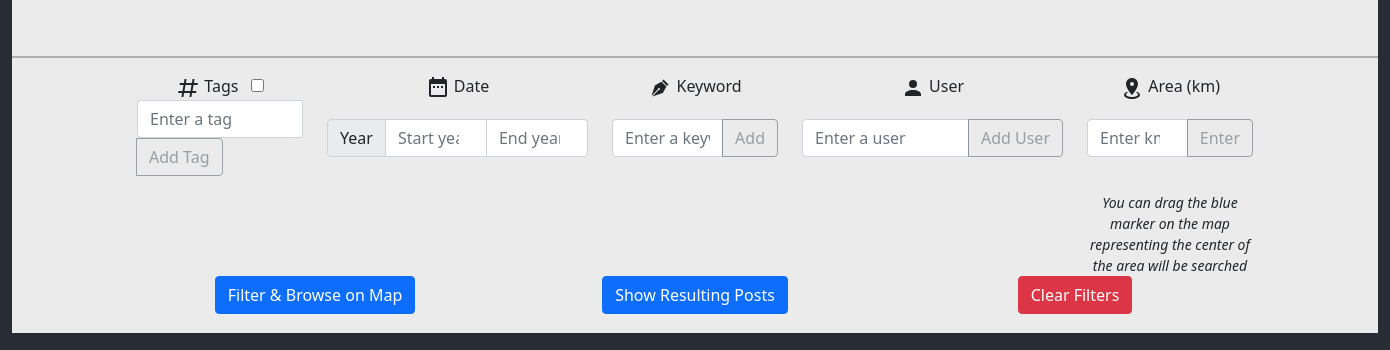
Test: Clicks on add a keyword successfully
Type "keyword3" into the field with placeholder "Enter a keyword" at [668, 138], box [612,119,723,157]
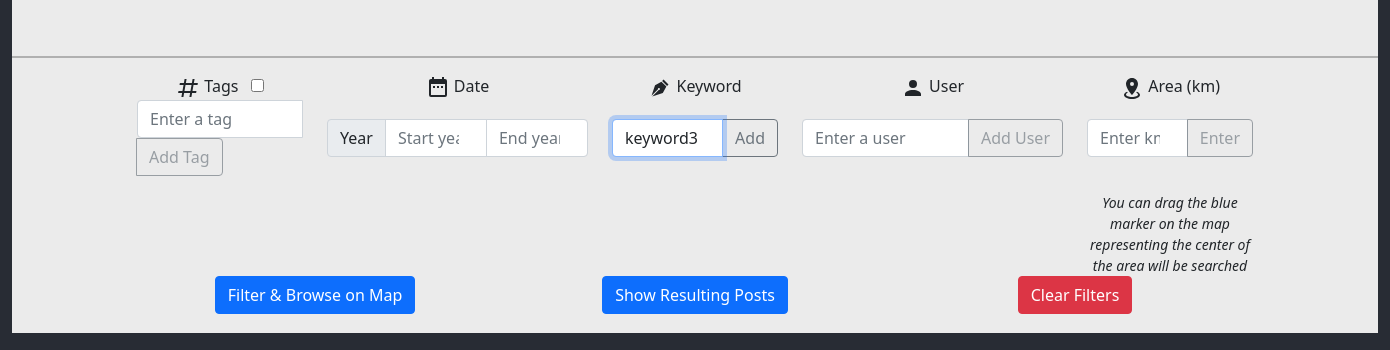
Click the button "Add" at [750, 138], box [722,119,778,157]
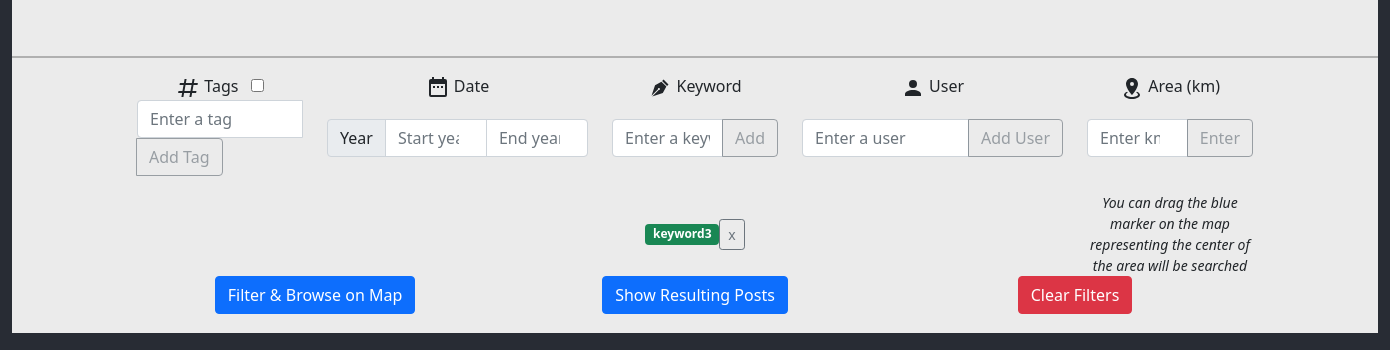
Result: the text "keyword3" is shown at [645,224,719,245]
